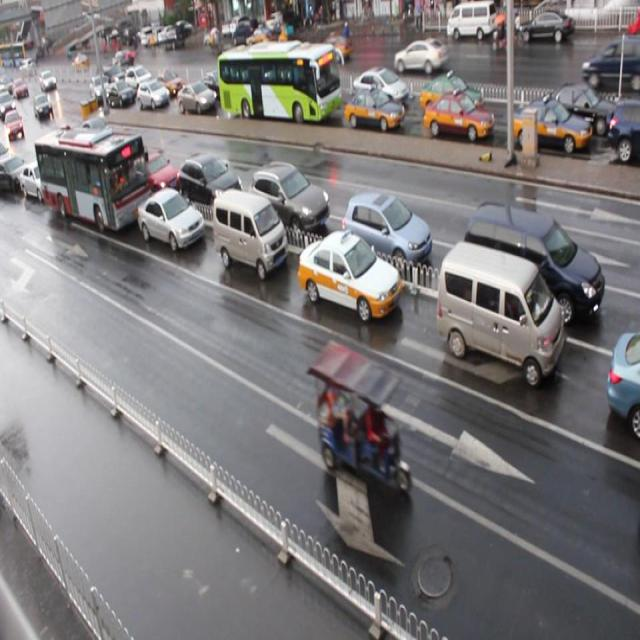car: (298, 228, 401, 322), (342, 192, 432, 276), (250, 161, 330, 234), (513, 98, 592, 156), (536, 84, 620, 138), (137, 186, 205, 251), (178, 152, 244, 213), (606, 329, 640, 435), (424, 92, 494, 140), (344, 85, 404, 133), (427, 74, 490, 118), (351, 68, 406, 107), (606, 97, 640, 159), (138, 147, 181, 194), (78, 118, 122, 156), (21, 157, 58, 202), (83, 132, 121, 170), (177, 81, 218, 116), (278, 67, 318, 102), (1, 152, 30, 194), (138, 78, 169, 112), (154, 70, 184, 98), (201, 70, 229, 98), (106, 80, 133, 106), (126, 64, 153, 89)
truck: (437, 240, 562, 388), (464, 199, 604, 328), (212, 187, 288, 278)
van: (35, 126, 154, 234), (216, 43, 340, 123)
